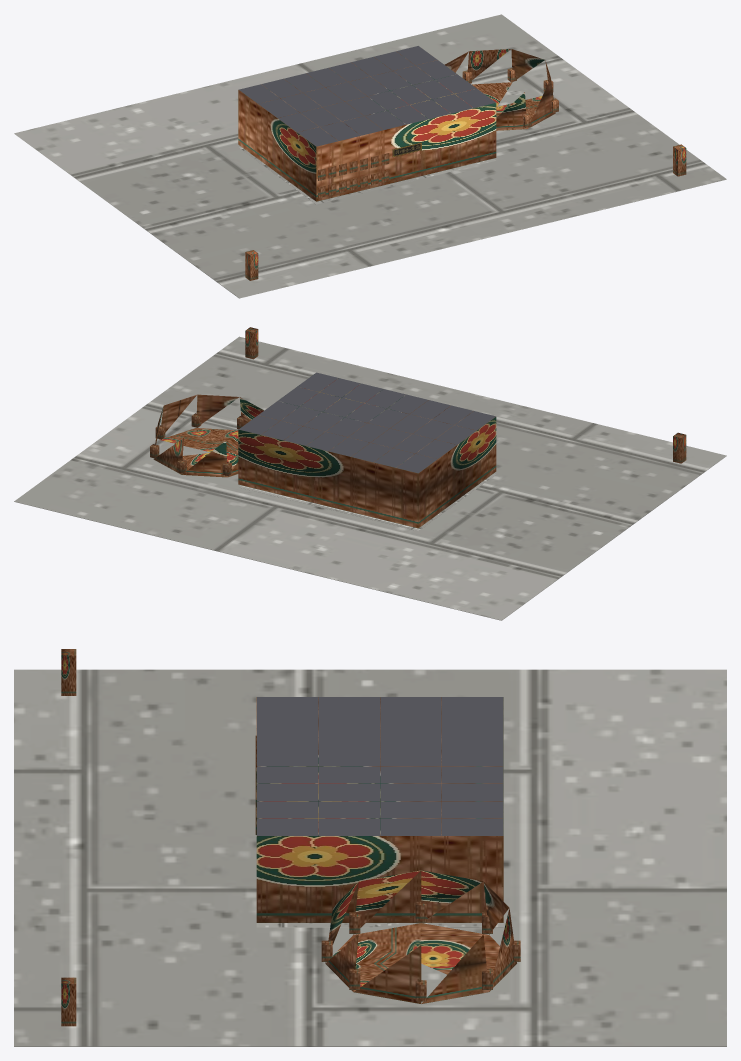
3 views of the same model, one above another, from view 1: azimuth 30°, elevation 25°; view 2: azimuth 150°, elevation 25°; view 3: azimuth 270°, elevation 25° (orthographic). The views are drawn at different scales.
Parts seen in each view (by area): view 1: 11710_01_05555_023_01_L2__base, 11710_01_05555_023_02_L2__body, 11710_01_05555_023_03_L2__roof, 11710_01_05555_023_05_L2__openings, 11710_01_05555_023_06_L2__green; view 2: 11710_01_05555_023_01_L2__base, 11710_01_05555_023_02_L2__body, 11710_01_05555_023_03_L2__roof, 11710_01_05555_023_06_L2__green; view 3: 11710_01_05555_023_01_L2__base, 11710_01_05555_023_02_L2__body, 11710_01_05555_023_03_L2__roof, 11710_01_05555_023_06_L2__green.
Part boxes in pixels (x1,y1,x2,y2): 11710_01_05555_023_01_L2__base: (14, 14, 726, 298); 11710_01_05555_023_02_L2__body: (238, 49, 558, 201); 11710_01_05555_023_03_L2__roof: (239, 46, 495, 146); 11710_01_05555_023_05_L2__openings: (318, 153, 389, 198); 11710_01_05555_023_06_L2__green: (245, 144, 686, 280); 11710_01_05555_023_01_L2__base: (14, 336, 726, 620); 11710_01_05555_023_02_L2__body: (150, 378, 496, 528); 11710_01_05555_023_03_L2__roof: (239, 372, 495, 473); 11710_01_05555_023_06_L2__green: (245, 327, 686, 463); 11710_01_05555_023_01_L2__base: (14, 669, 726, 1046); 11710_01_05555_023_02_L2__body: (256, 697, 520, 1003); 11710_01_05555_023_03_L2__roof: (257, 697, 503, 835); 11710_01_05555_023_06_L2__green: (61, 649, 76, 1026).
Bounding box in the file's own units: 130 × 14.82 × 104.
Materials: 5 (5 with a texture image).
